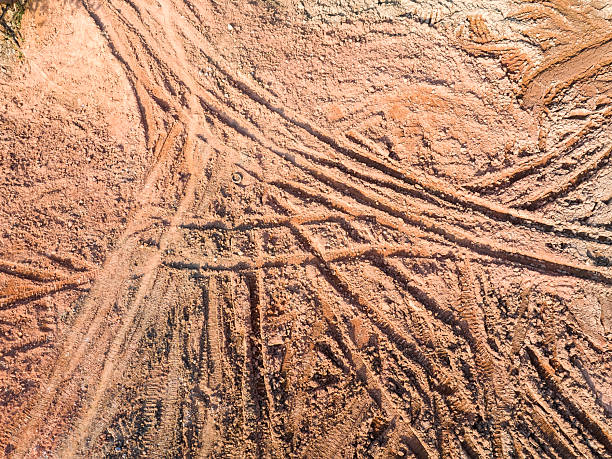vehicle_track: (0, 0, 611, 457)
